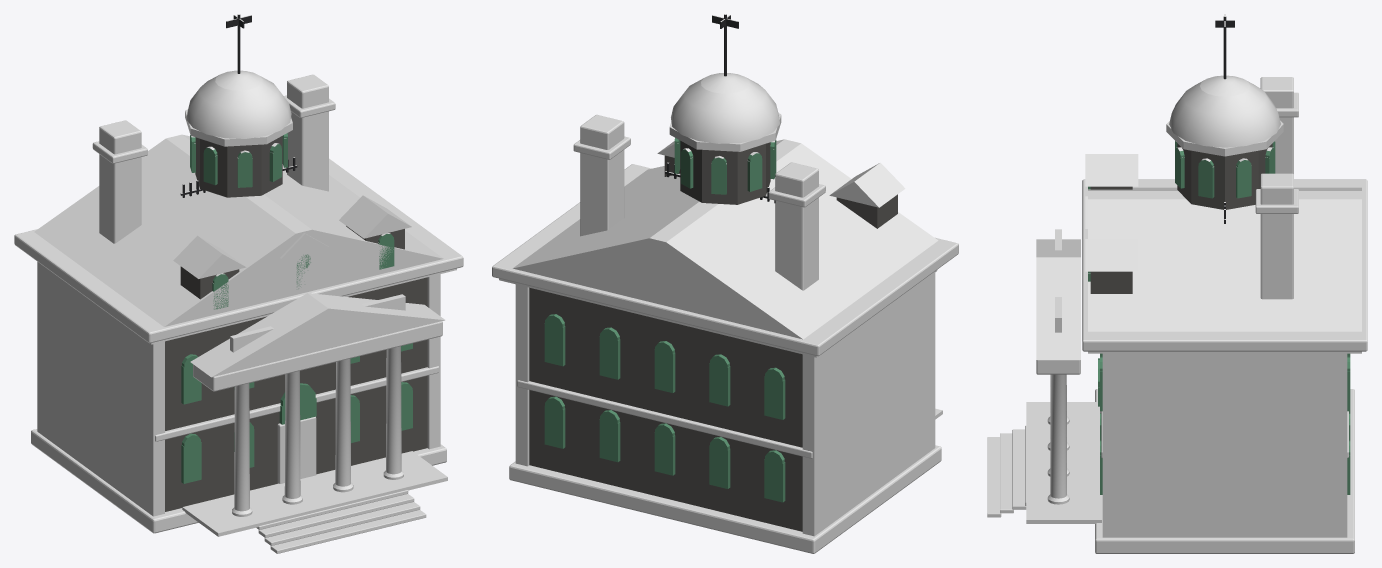
The model's file is haunt_mansion.fbx.
3 renders of one model, left to right at view 1: azimuth 30°, elevation 25°; view 2: azimuth 150°, elevation 25°; view 3: azimuth 270°, elevation 25°, orthographic. The views are drawn at different scales.
Parts seen in each view (by area): view 1: stonedark_1, grime_1, marble_1, clapboard_1, shingle_1, deadwood_1, window_1, iron_1; view 2: grime_1, clapboard_1, stonedark_1, shingle_1, window_1, marble_1; view 3: grime_1, stonedark_1, marble_1, shingle_1, deadwood_1, clapboard_1, window_1.
Part boxes in pixels (<box>): stonedark_1: <box>15,14,462,377</box>; grime_1: <box>31,81,446,533</box>; marble_1: <box>14,111,463,553</box>; clapboard_1: <box>165,136,427,511</box>; shingle_1: <box>149,75,456,377</box>; deadwood_1: <box>182,416,447,536</box>; window_1: <box>181,133,412,483</box>; iron_1: <box>180,15,297,197</box>; grime_1: <box>509,121,941,553</box>; clapboard_1: <box>529,141,897,531</box>; stonedark_1: <box>493,14,957,345</box>; shingle_1: <box>499,77,905,357</box>; window_1: <box>544,138,785,502</box>; marble_1: <box>492,115,958,458</box>; grime_1: <box>1095,78,1354,553</box>; stonedark_1: <box>1036,14,1367,359</box>; marble_1: <box>987,124,1367,517</box>; shingle_1: <box>1085,80,1361,353</box>; deadwood_1: <box>1026,402,1101,523</box>; clapboard_1: <box>1090,143,1272,293</box>; window_1: <box>1088,141,1350,494</box>.
Bounding box in the file's own units: 2.74 × 3.65 × 2.72.
